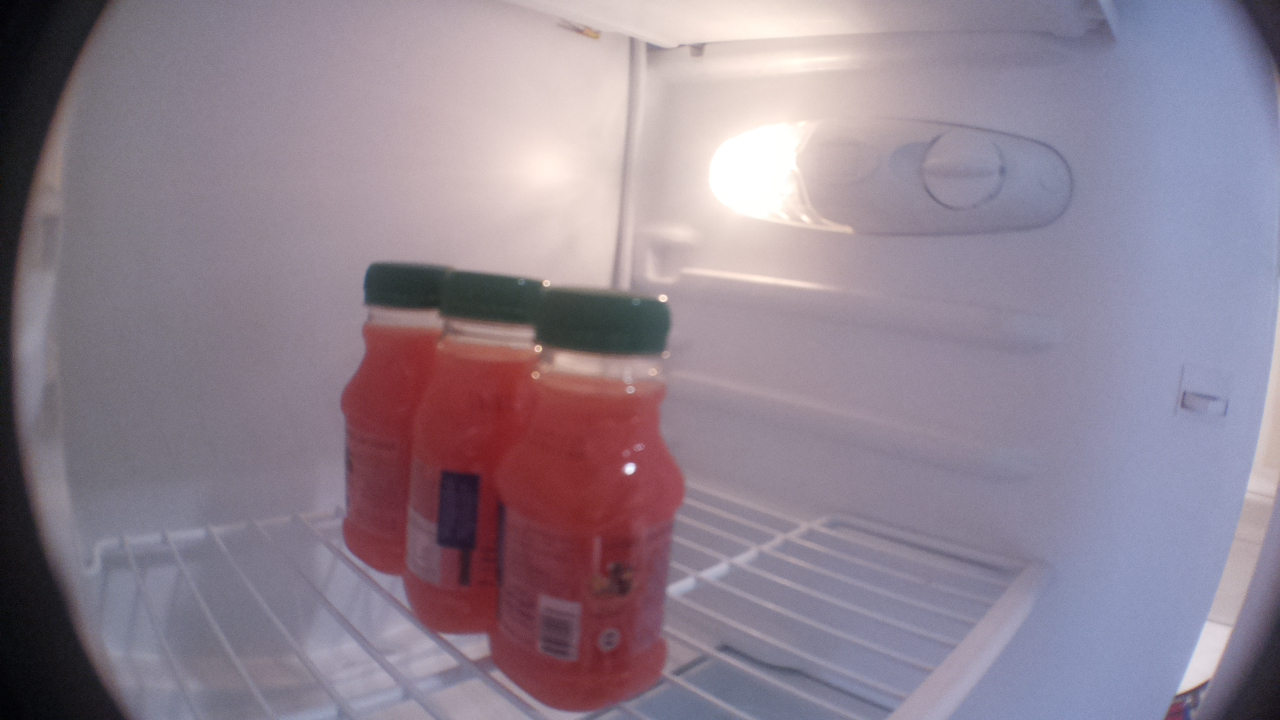juice: (485, 283, 686, 712), (408, 260, 494, 646), (330, 257, 414, 581)
